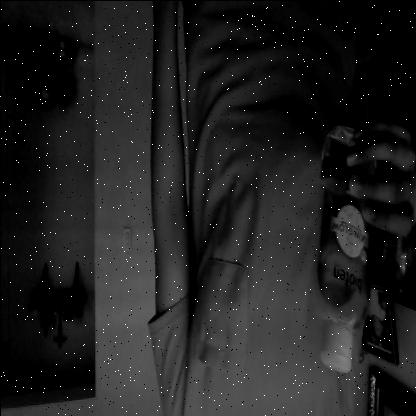Plastic Bottle: (306, 117, 378, 382)
